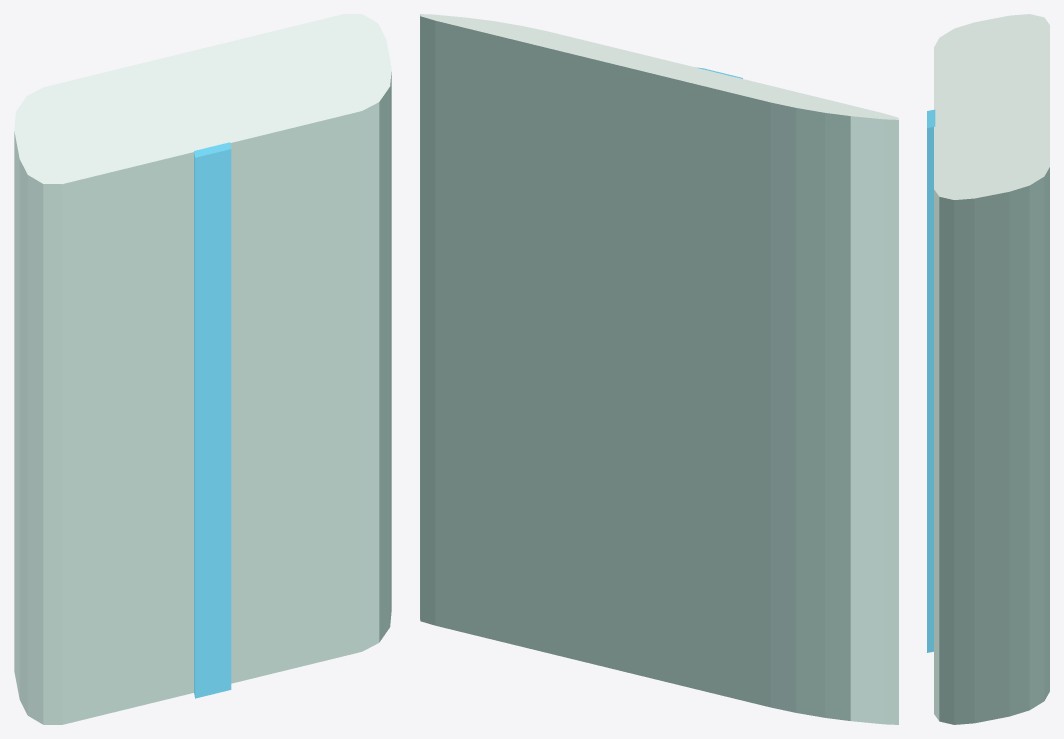
The model's file is Door_LeafTile.gltf.
3 renders of one model, left to right at view 1: azimuth 30°, elevation 25°; view 2: azimuth 150°, elevation 25°; view 3: azimuth 270°, elevation 25°, orthographic. The views are drawn at different scales.
Parts seen in each view (by area): view 1: Door_LeafTile_baked; view 2: Door_LeafTile_baked; view 3: Door_LeafTile_baked.
Boxes of the visible parts, x1=… form: Door_LeafTile_baked: x1=14, y1=14, x2=391, y2=724; Door_LeafTile_baked: x1=420, y1=14, x2=898, y2=724; Door_LeafTile_baked: x1=927, y1=14, x2=1049, y2=724.
Bounding box in the file's own units: 0.7532 × 1.08 × 0.212.
